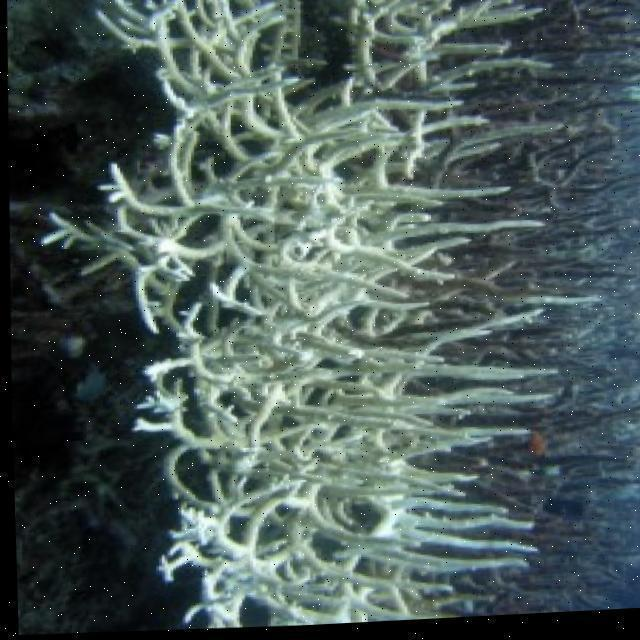Bleached Coral: (44, 0, 578, 638)
